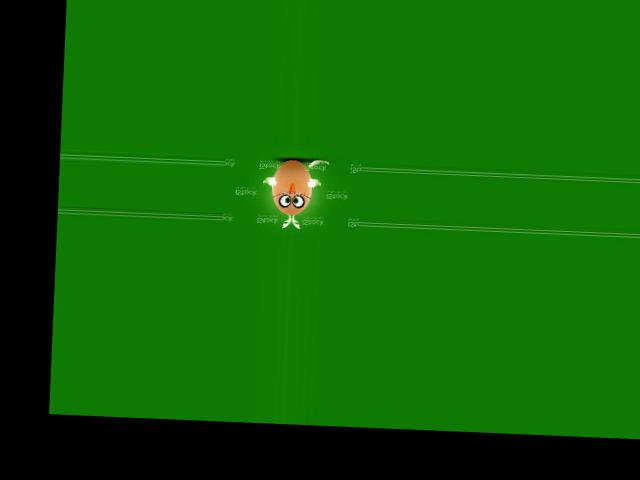egg: (271, 158, 314, 215)
